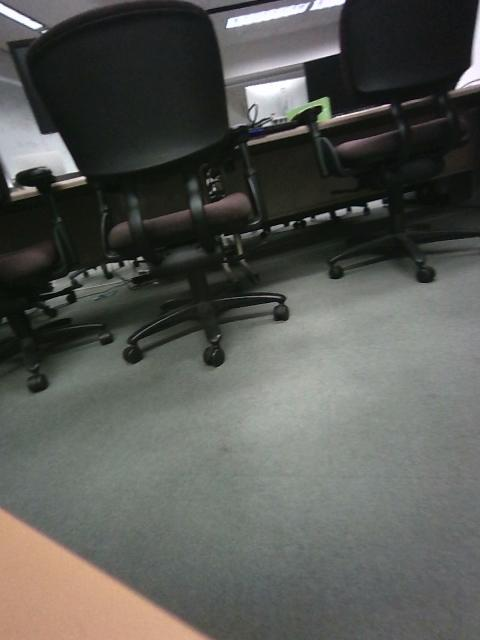block: (272, 306, 330, 344)
